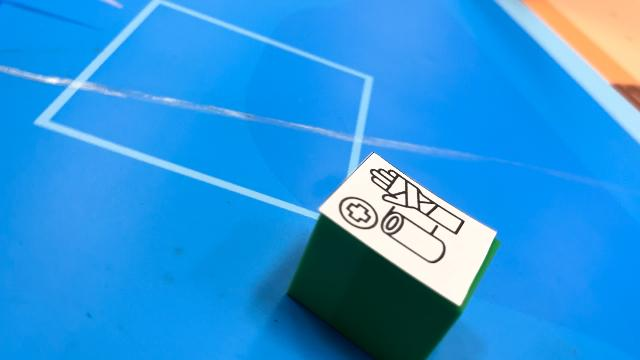bandage: (286, 151, 500, 359)
